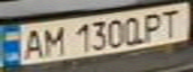0: (121, 14, 148, 45), (106, 16, 127, 48)
1: (69, 20, 93, 54)
3: (90, 18, 112, 52)
A: (18, 26, 48, 61)
M: (36, 24, 69, 57)
P: (139, 10, 169, 42)
T: (157, 6, 187, 38)
